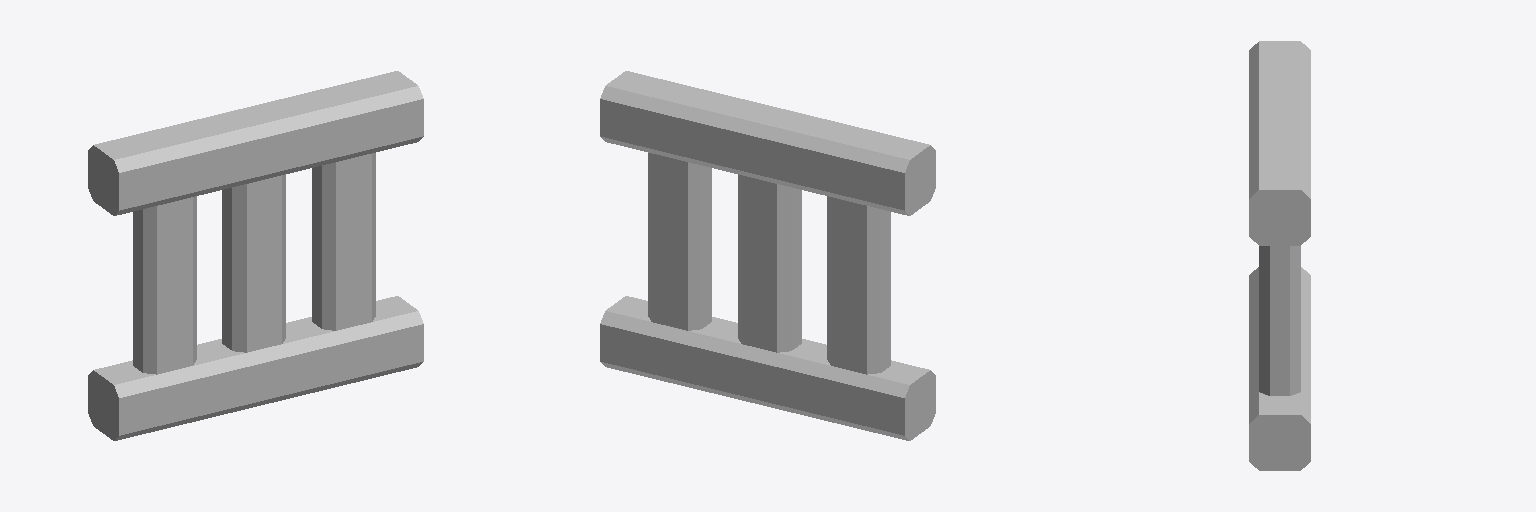
The model's file is fence_rails_long.obj.
The picture shows the model from 3 angles: view 1: azimuth 30°, elevation 25°; view 2: azimuth 150°, elevation 25°; view 3: azimuth 270°, elevation 25°; orthographic projection.
Parts seen in each view (by area): view 1: fence_rails_long; view 2: fence_rails_long; view 3: fence_rails_long.
Boxes of the visible parts, box(x1,y1,x2,y2) form: fence_rails_long: box(88, 71, 423, 440); fence_rails_long: box(600, 71, 935, 440); fence_rails_long: box(1249, 41, 1310, 470).
Size of the model in its own units: 1.7 by 1.5 by 0.3.